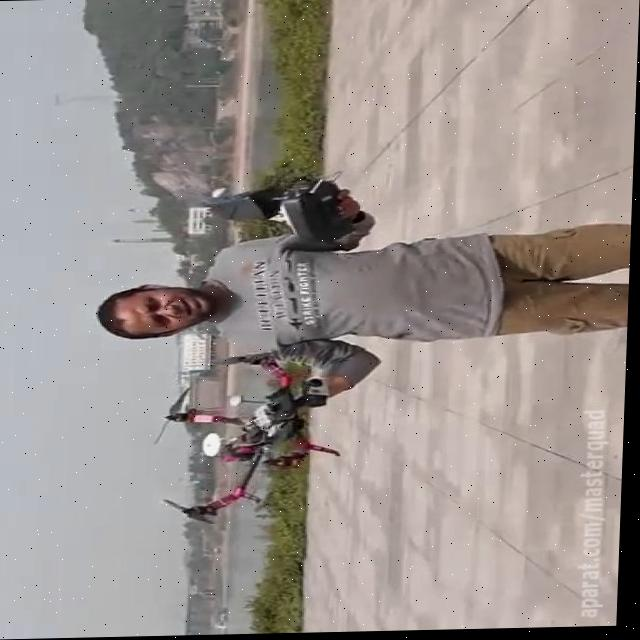drone: (149, 351, 349, 532)
